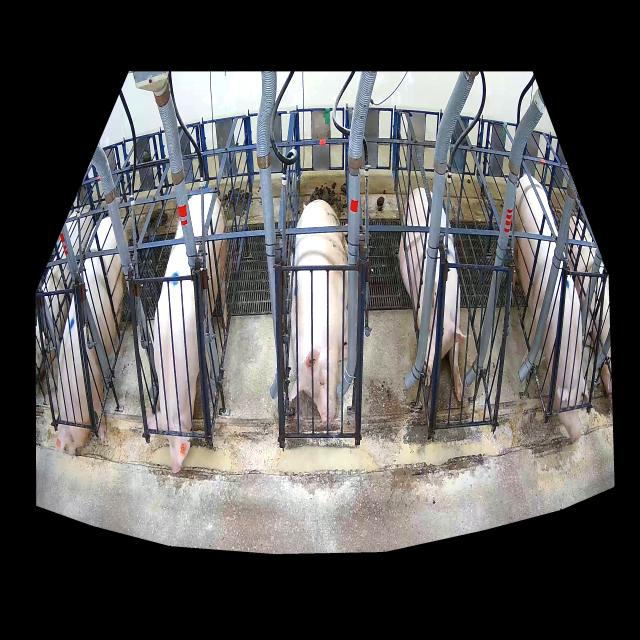pig: (147, 193, 227, 473), (510, 174, 589, 442), (45, 217, 126, 456), (399, 187, 467, 401), (289, 199, 348, 426)
